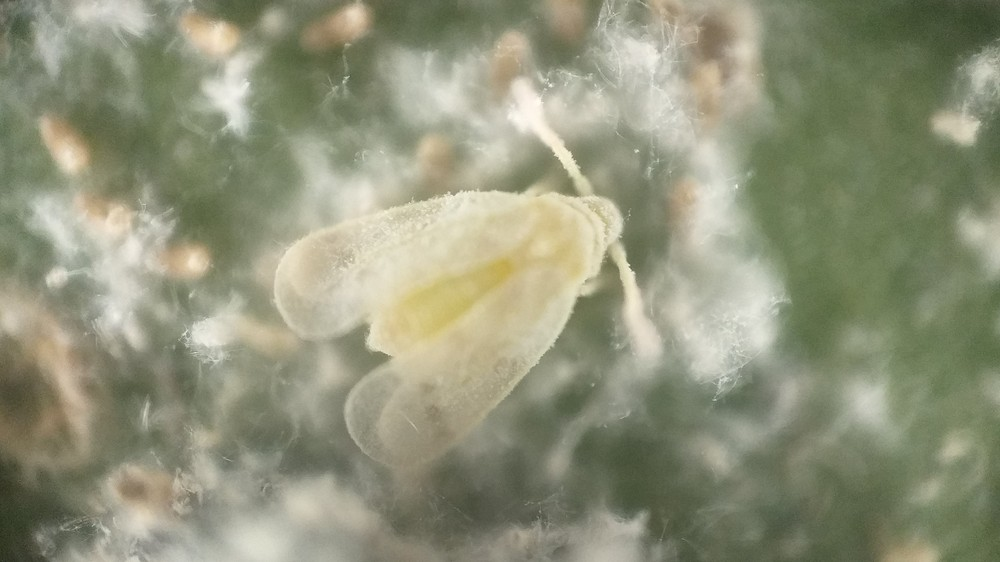Mosca Blanca: (283, 85, 684, 489)
